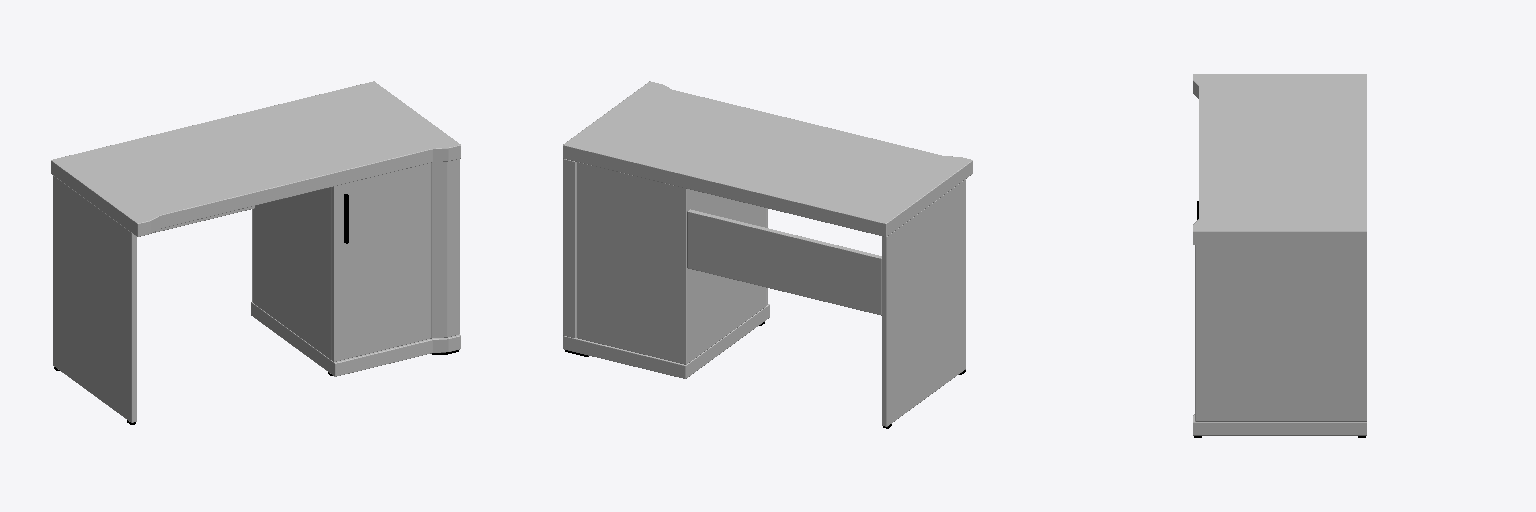
Rendered from desk.obj.
The picture shows the model from 3 angles: view 1: azimuth 30°, elevation 25°; view 2: azimuth 150°, elevation 25°; view 3: azimuth 270°, elevation 25°; orthographic projection.
Visible parts, largest first — view 1: Desk; view 2: Desk; view 3: Desk.
Part boxes in pixels (bbox=[...]): Desk: bbox=[51, 81, 460, 424]; Desk: bbox=[563, 81, 972, 428]; Desk: bbox=[1193, 74, 1366, 437].
Bounding box in the file's own units: 3.86 × 2.36 × 1.8.